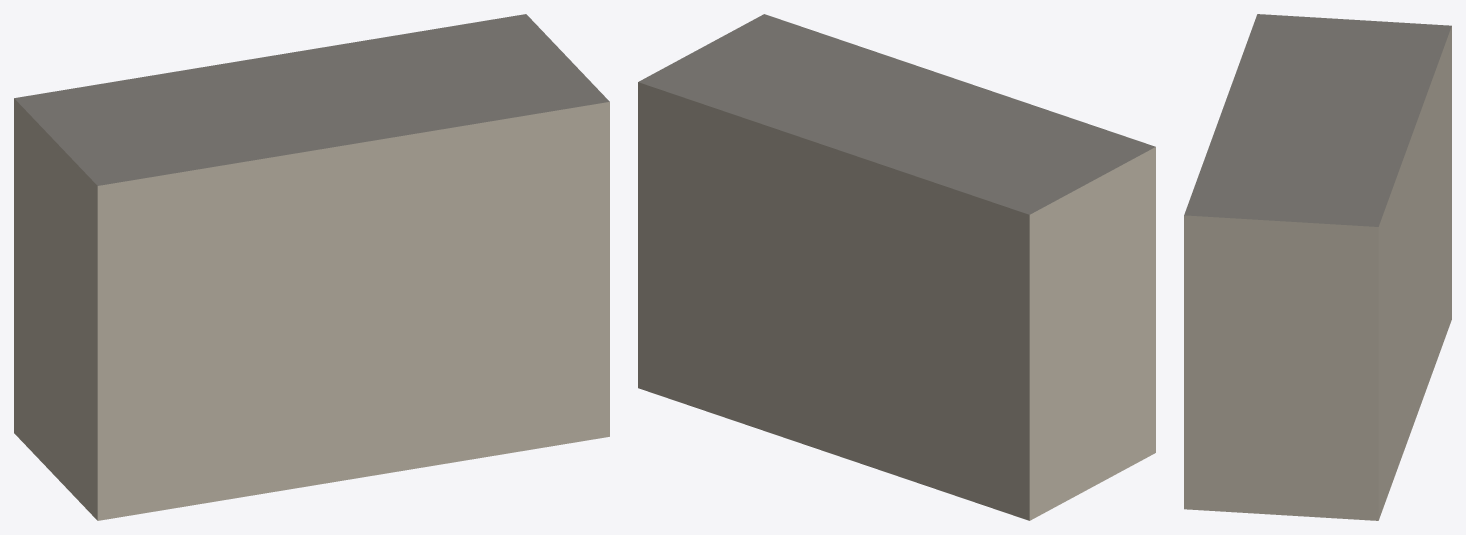
3 renders of one model, left to right at view 1: azimuth 30°, elevation 25°; view 2: azimuth 150°, elevation 25°; view 3: azimuth 270°, elevation 25°, orthographic. The views are drawn at different scales.
Visible parts, largest first — view 1: HP-w505664409; view 2: HP-w505664409; view 3: HP-w505664409.
Part boxes in pixels (x1,y1,x2,y2): HP-w505664409: (14, 14, 609, 520); HP-w505664409: (638, 14, 1155, 520); HP-w505664409: (1184, 14, 1451, 520).
Bounding box in the file's own units: 27.99 × 18 × 14.87.
